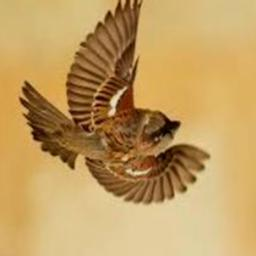Sparrow: (18, 0, 211, 205)
